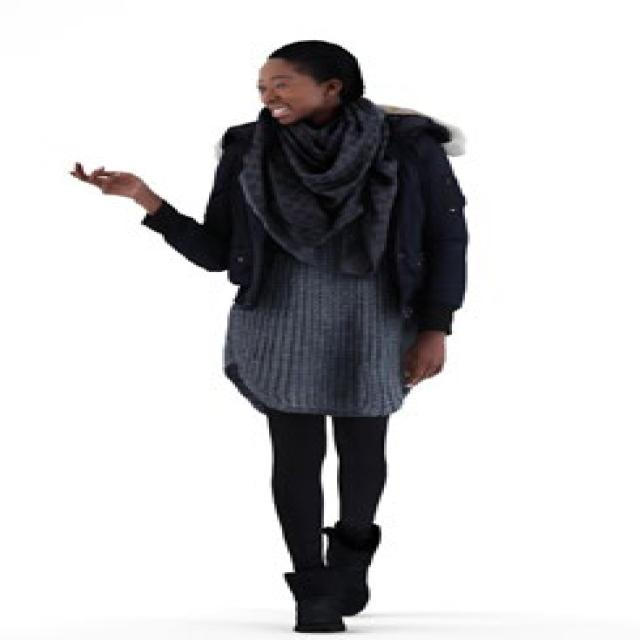standing: (66, 31, 470, 640)
